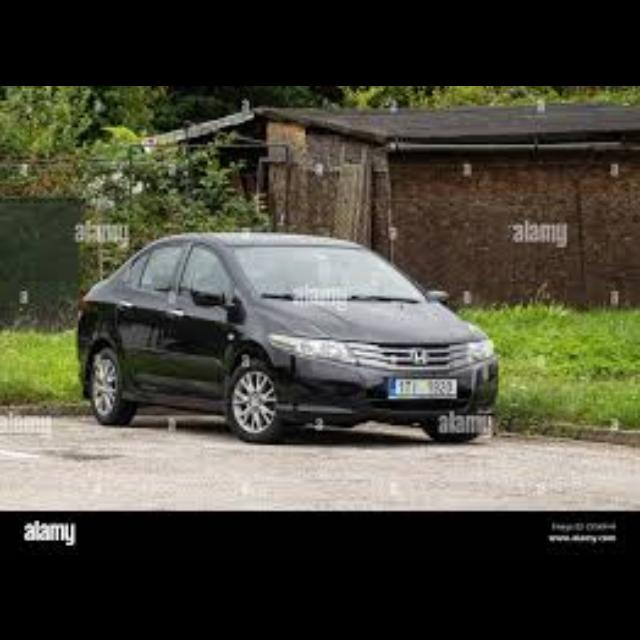vehicles: (74, 220, 508, 444)
